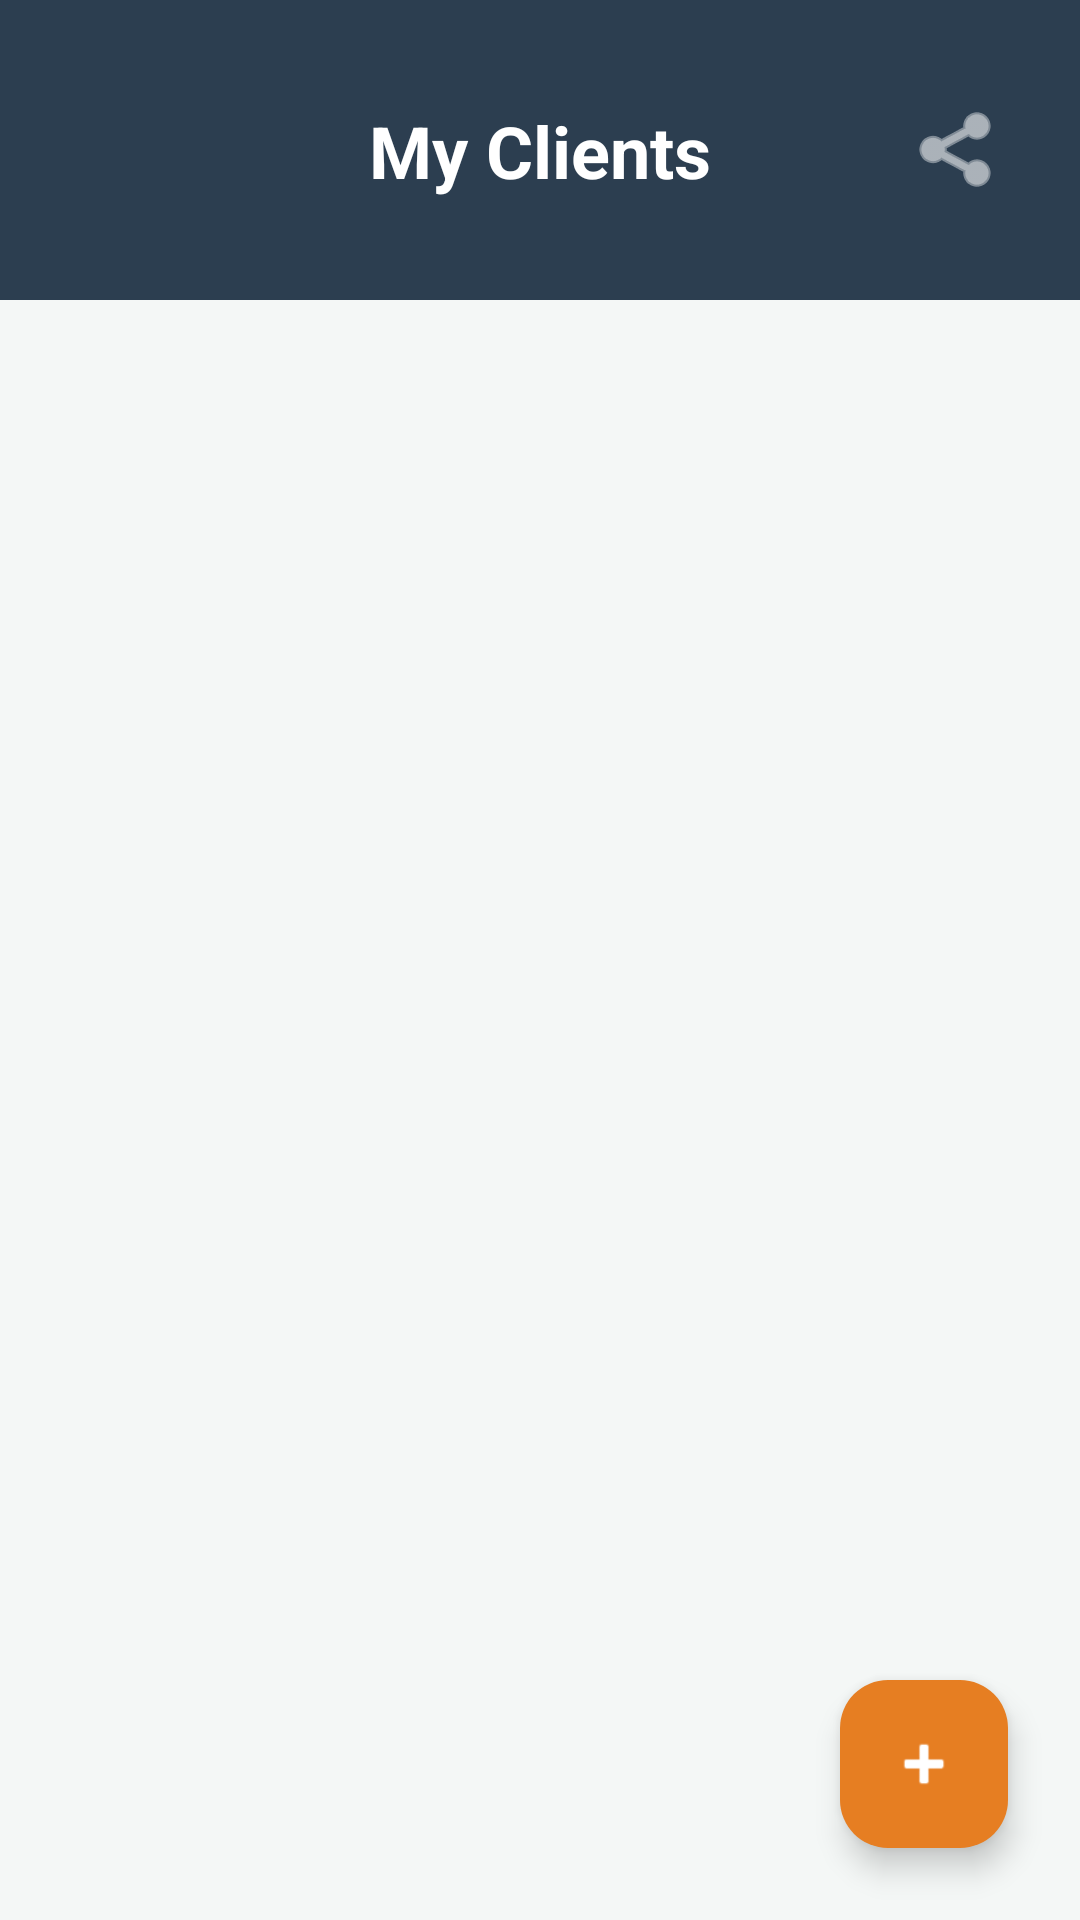

Icons on this 1080w x 1920h Android screen, each with the point to tap as point (x, y):
Add Client: point (924, 1764)
